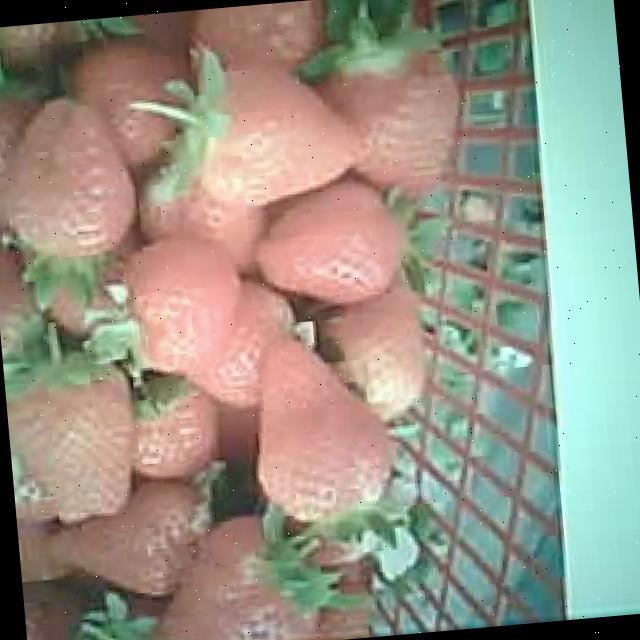strawberry: (246, 333, 396, 523), (188, 58, 372, 204), (1, 95, 138, 256)
